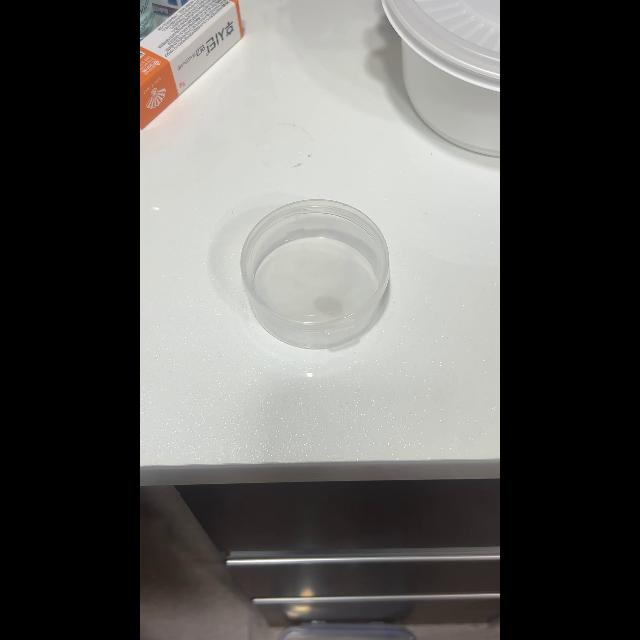clean: (240, 196, 390, 350)
